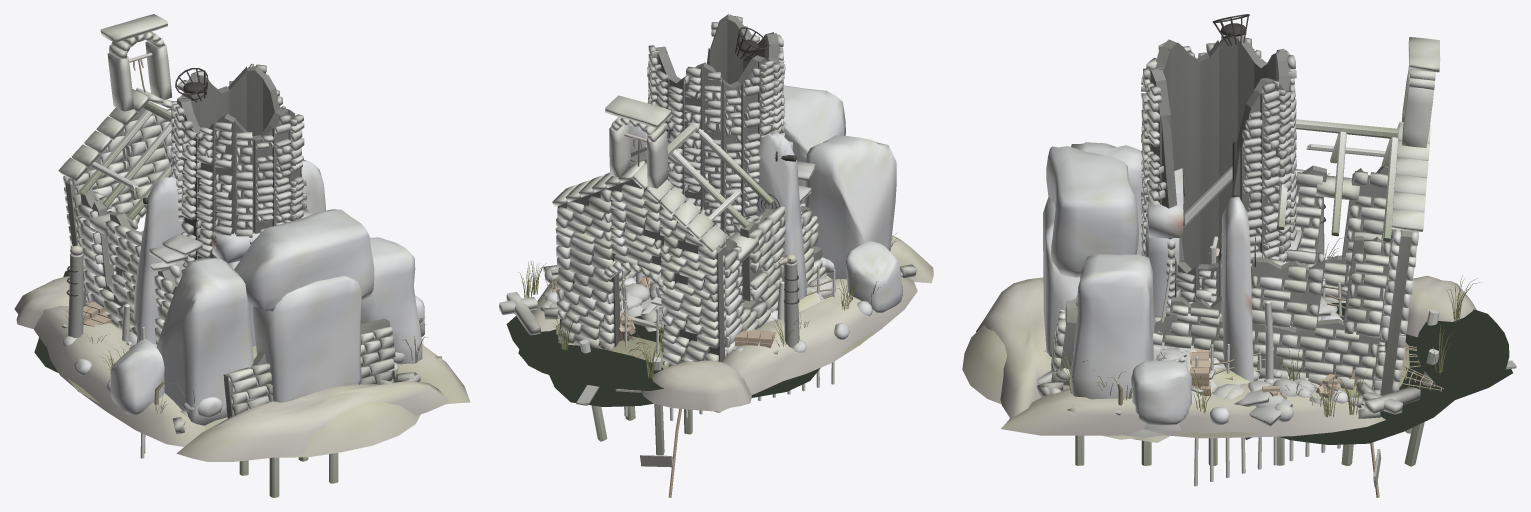
Rendered from wild_sites.glb.
3 views of the same model, side by side, from view 1: azimuth 30°, elevation 25°; view 2: azimuth 150°, elevation 25°; view 3: azimuth 270°, elevation 25° (orthographic). The views are drawn at different scales.
Visible parts, largest first — view 1: site_mission_chapel, site_old_ones_door, site_signal_tower, site_clan_gong, site_colony_causeway, site_ork_barrows, site_scree_battlefield, site_eel_weir, site_peat_cutting; view 2: site_mission_chapel, site_signal_tower, site_old_ones_door, site_clan_gong, site_colony_causeway, site_eel_weir, site_ork_barrows, site_scree_battlefield, site_peat_cutting, site_rope_bridge; view 3: site_mission_chapel, site_signal_tower, site_old_ones_door, site_clan_gong, site_colony_causeway, site_eel_weir, site_peat_cutting, site_scree_battlefield, site_ork_barrows.
Boxes of the visible parts, left/top/right/bottom form: site_mission_chapel: left=14, top=14, right=470, bottom=461; site_old_ones_door: left=84, top=208, right=424, bottom=425; site_signal_tower: left=125, top=63, right=423, bottom=346; site_clan_gong: left=63, top=160, right=325, bottom=403; site_colony_causeway: left=239, top=349, right=420, bottom=497; site_ork_barrows: left=66, top=244, right=426, bottom=405; site_scree_battlefield: left=129, top=331, right=414, bottom=424; site_eel_weir: left=34, top=319, right=427, bottom=458; site_peat_cutting: left=62, top=301, right=256, bottom=367; site_mission_chapel: left=499, top=95, right=933, bottom=411; site_signal_tower: left=543, top=14, right=815, bottom=331; site_old_ones_door: left=783, top=85, right=902, bottom=328; site_clan_gong: left=544, top=125, right=873, bottom=368; site_colony_causeway: left=549, top=295, right=720, bottom=455; site_eel_weir: left=506, top=265, right=857, bottom=420; site_ork_barrows: left=527, top=207, right=880, bottom=348; site_scree_battlefield: left=543, top=257, right=902, bottom=346; site_peat_cutting: left=519, top=261, right=857, bottom=354; site_rope_bridge: left=628, top=277, right=681, bottom=497; site_mission_chapel: left=976, top=37, right=1509, bottom=438; site_signal_tower: left=1112, top=14, right=1330, bottom=431; site_old_ones_door: left=1043, top=142, right=1377, bottom=425; site_clan_gong: left=1172, top=141, right=1409, bottom=439; site_colony_causeway: left=962, top=236, right=1516, bottom=466; site_eel_weir: left=1048, top=278, right=1455, bottom=486; site_peat_cutting: left=1132, top=264, right=1367, bottom=442; site_scree_battlefield: left=1050, top=314, right=1343, bottom=437; site_ork_barrows: left=1093, top=173, right=1341, bottom=417.
Bounding box in the file's own units: 6.8 × 9.12 × 9.58.
